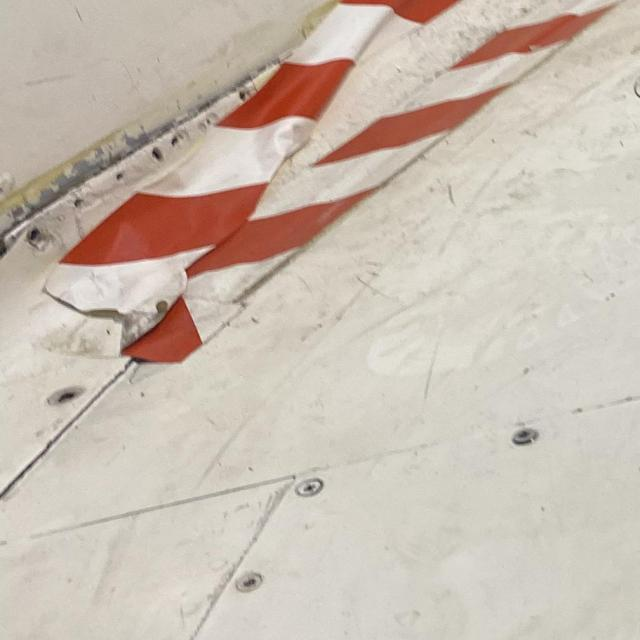Rupture: (0, 66, 281, 262)
